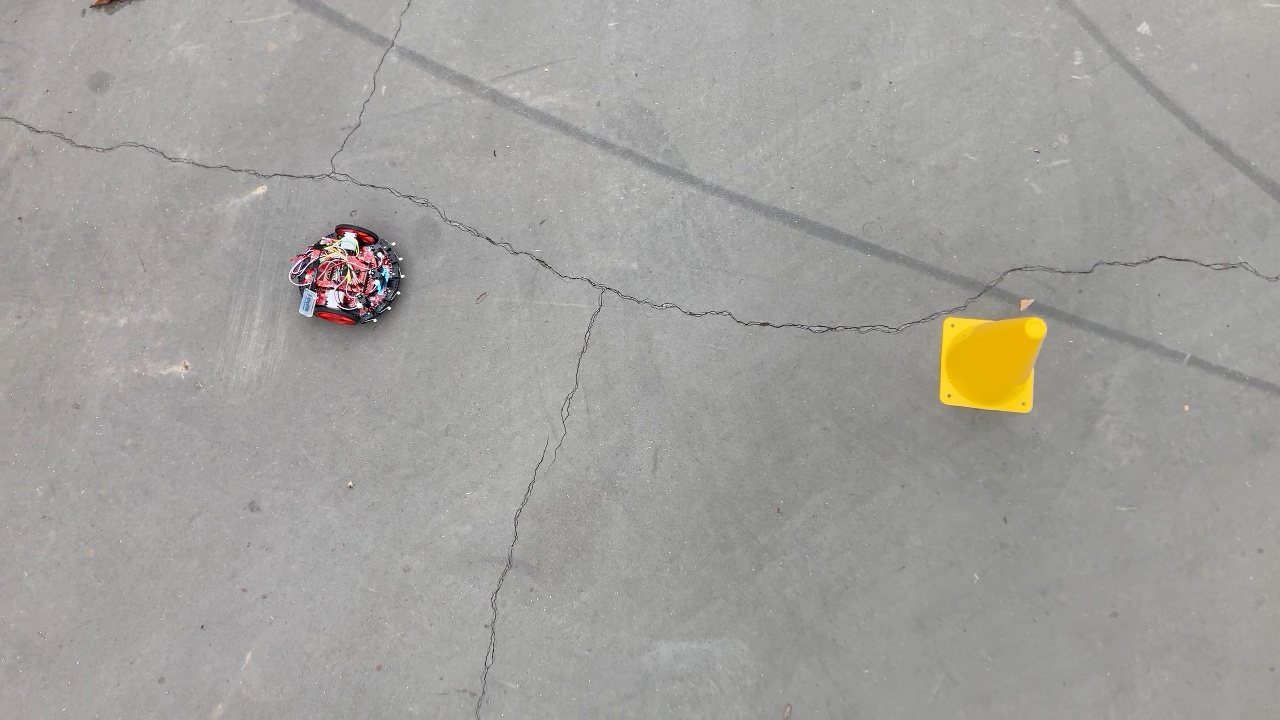red_cone: (282, 221, 408, 335)
yellow_cone: (937, 303, 1049, 418)
